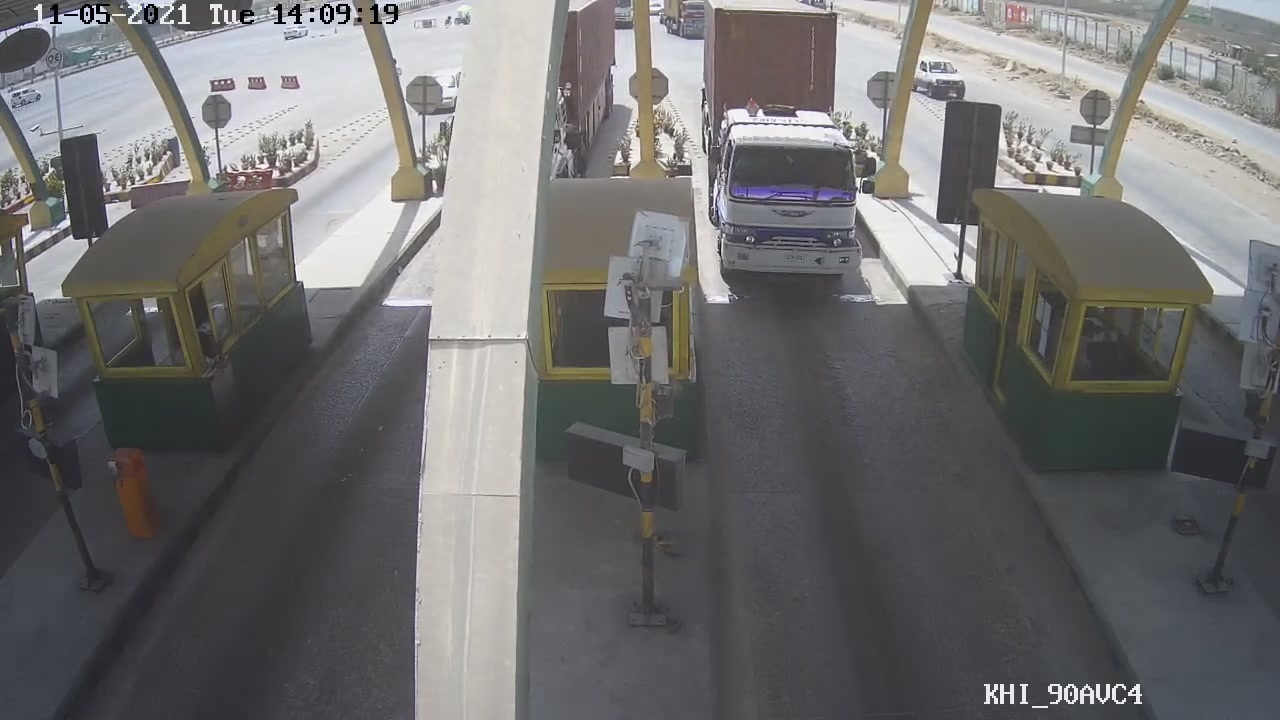F6: (691, 3, 880, 294)
